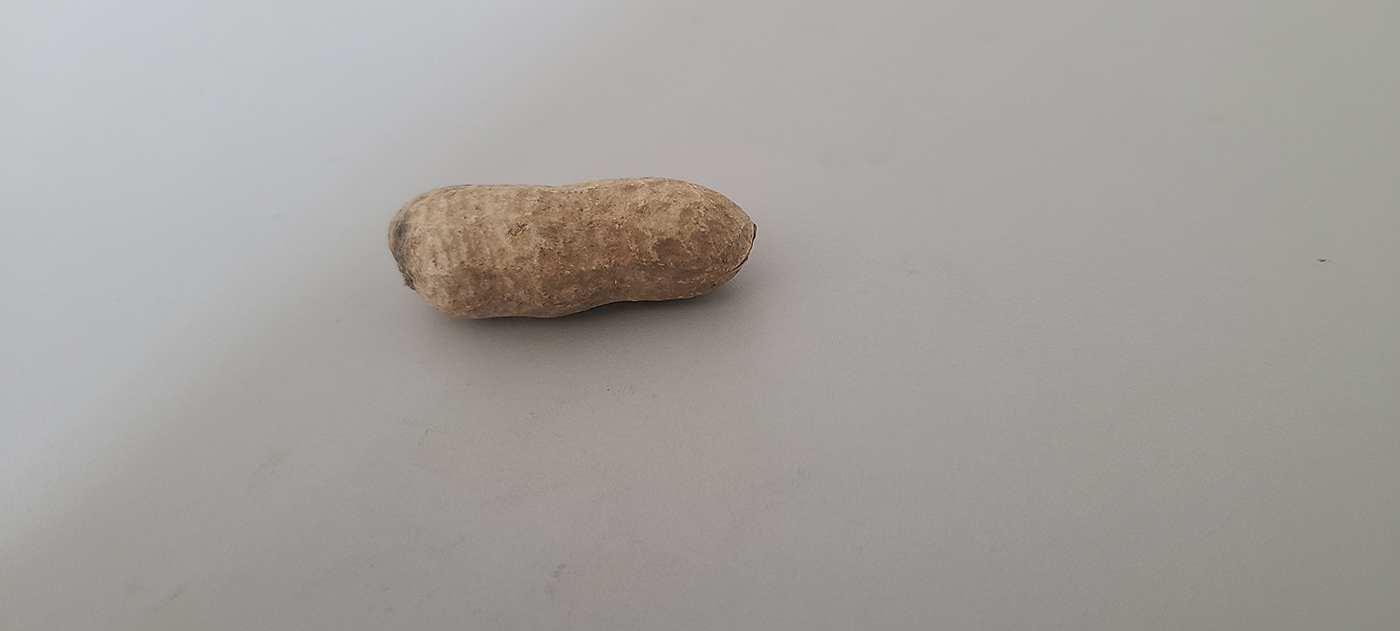h: (384, 177, 760, 323)
